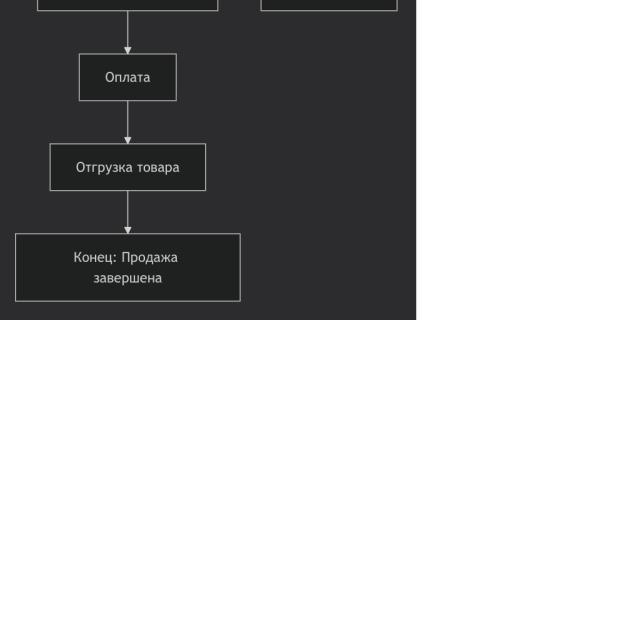arrow: (125, 11, 131, 54), (125, 191, 131, 234), (125, 101, 131, 144)
rectangle: (15, 234, 240, 301), (50, 143, 206, 191), (79, 54, 176, 101)
